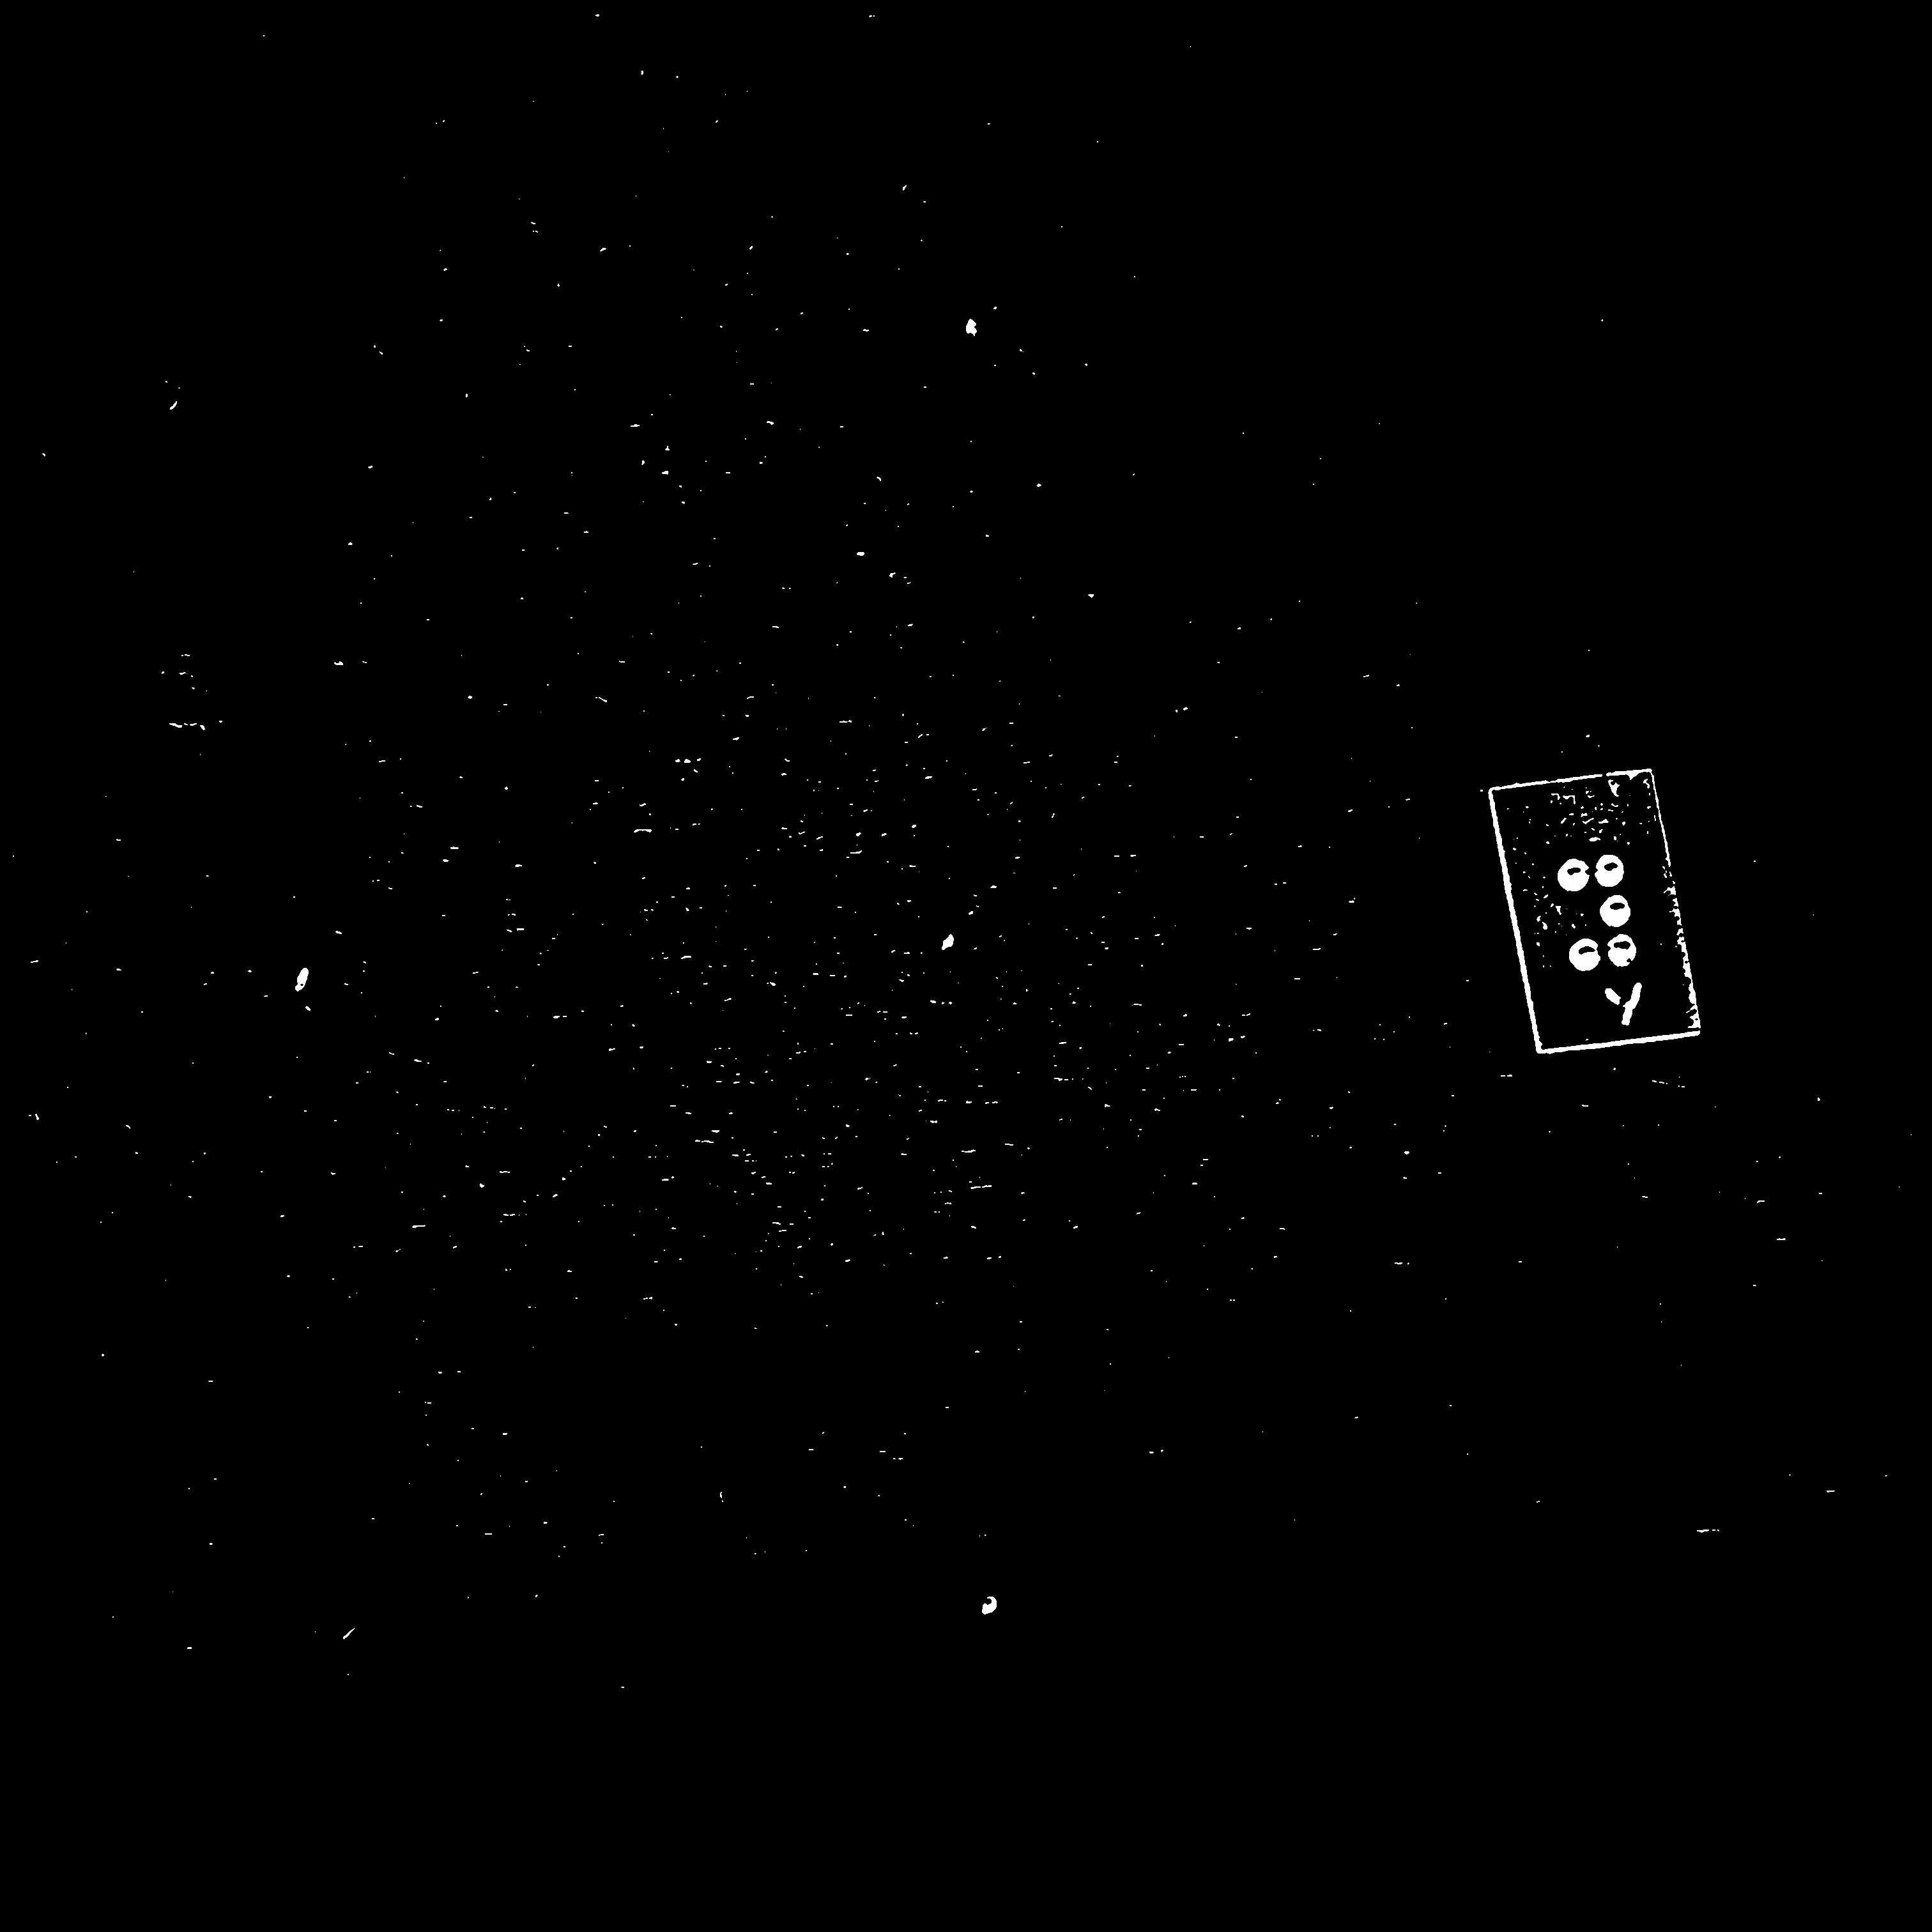y: (1548, 850, 1650, 982)
